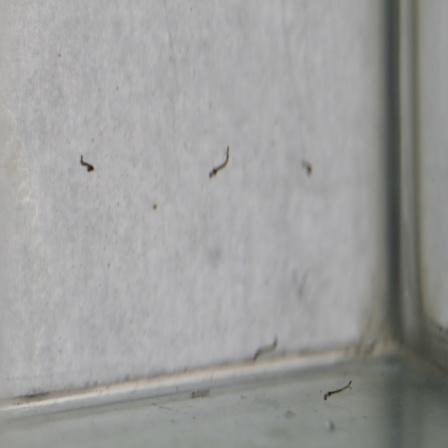Jentik-Nyamuk: (319, 377, 357, 403), (74, 149, 99, 177)
